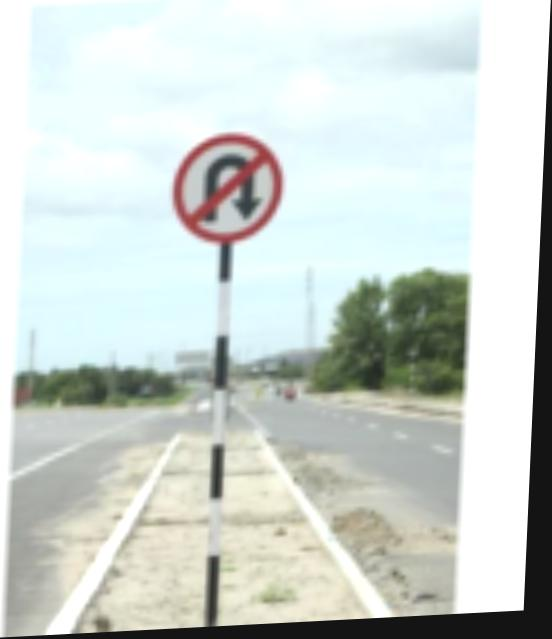not_u_turn_right: (157, 129, 309, 257)
